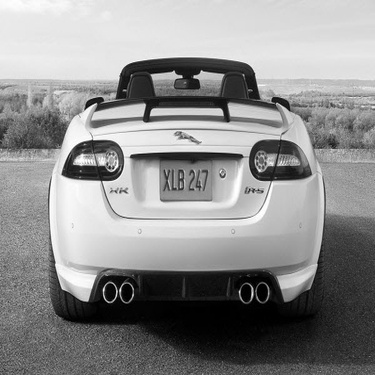car: (42, 54, 331, 323)
